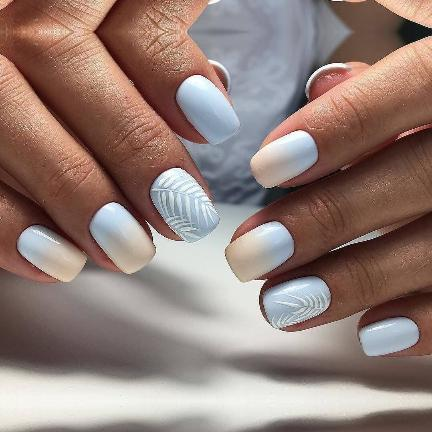Nail: (150, 167, 219, 242), (89, 201, 156, 274), (176, 74, 240, 144), (225, 221, 294, 282), (17, 224, 87, 282), (251, 130, 318, 187), (262, 276, 331, 328), (359, 317, 419, 356), (305, 62, 352, 98), (208, 59, 231, 93), (208, 0, 220, 3)
